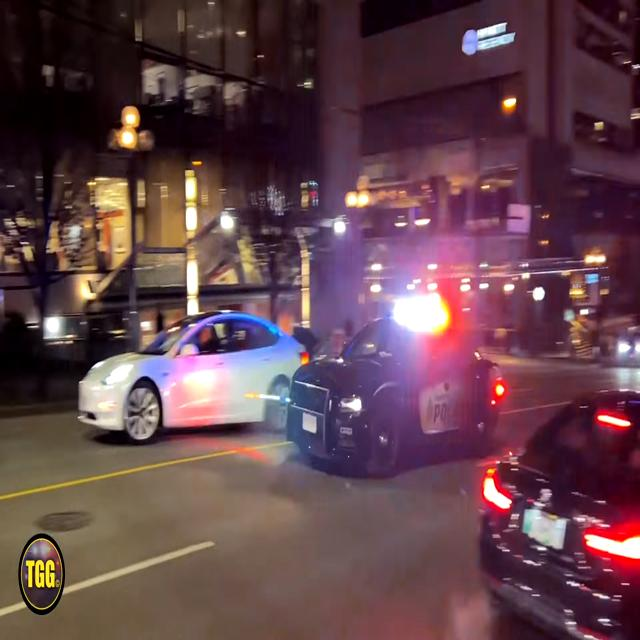emergency-vehicles: (277, 296, 511, 489)
